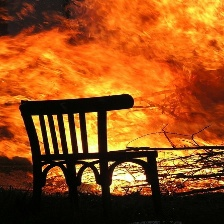fire: (1, 1, 224, 191)
